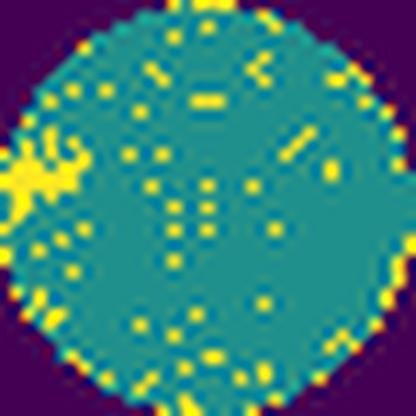Loc: (0, 128, 99, 237)
